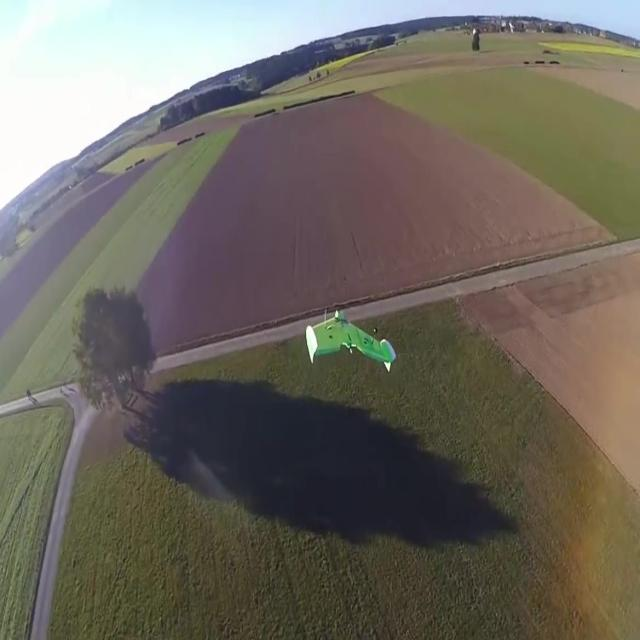iha: (338, 337, 365, 342)
